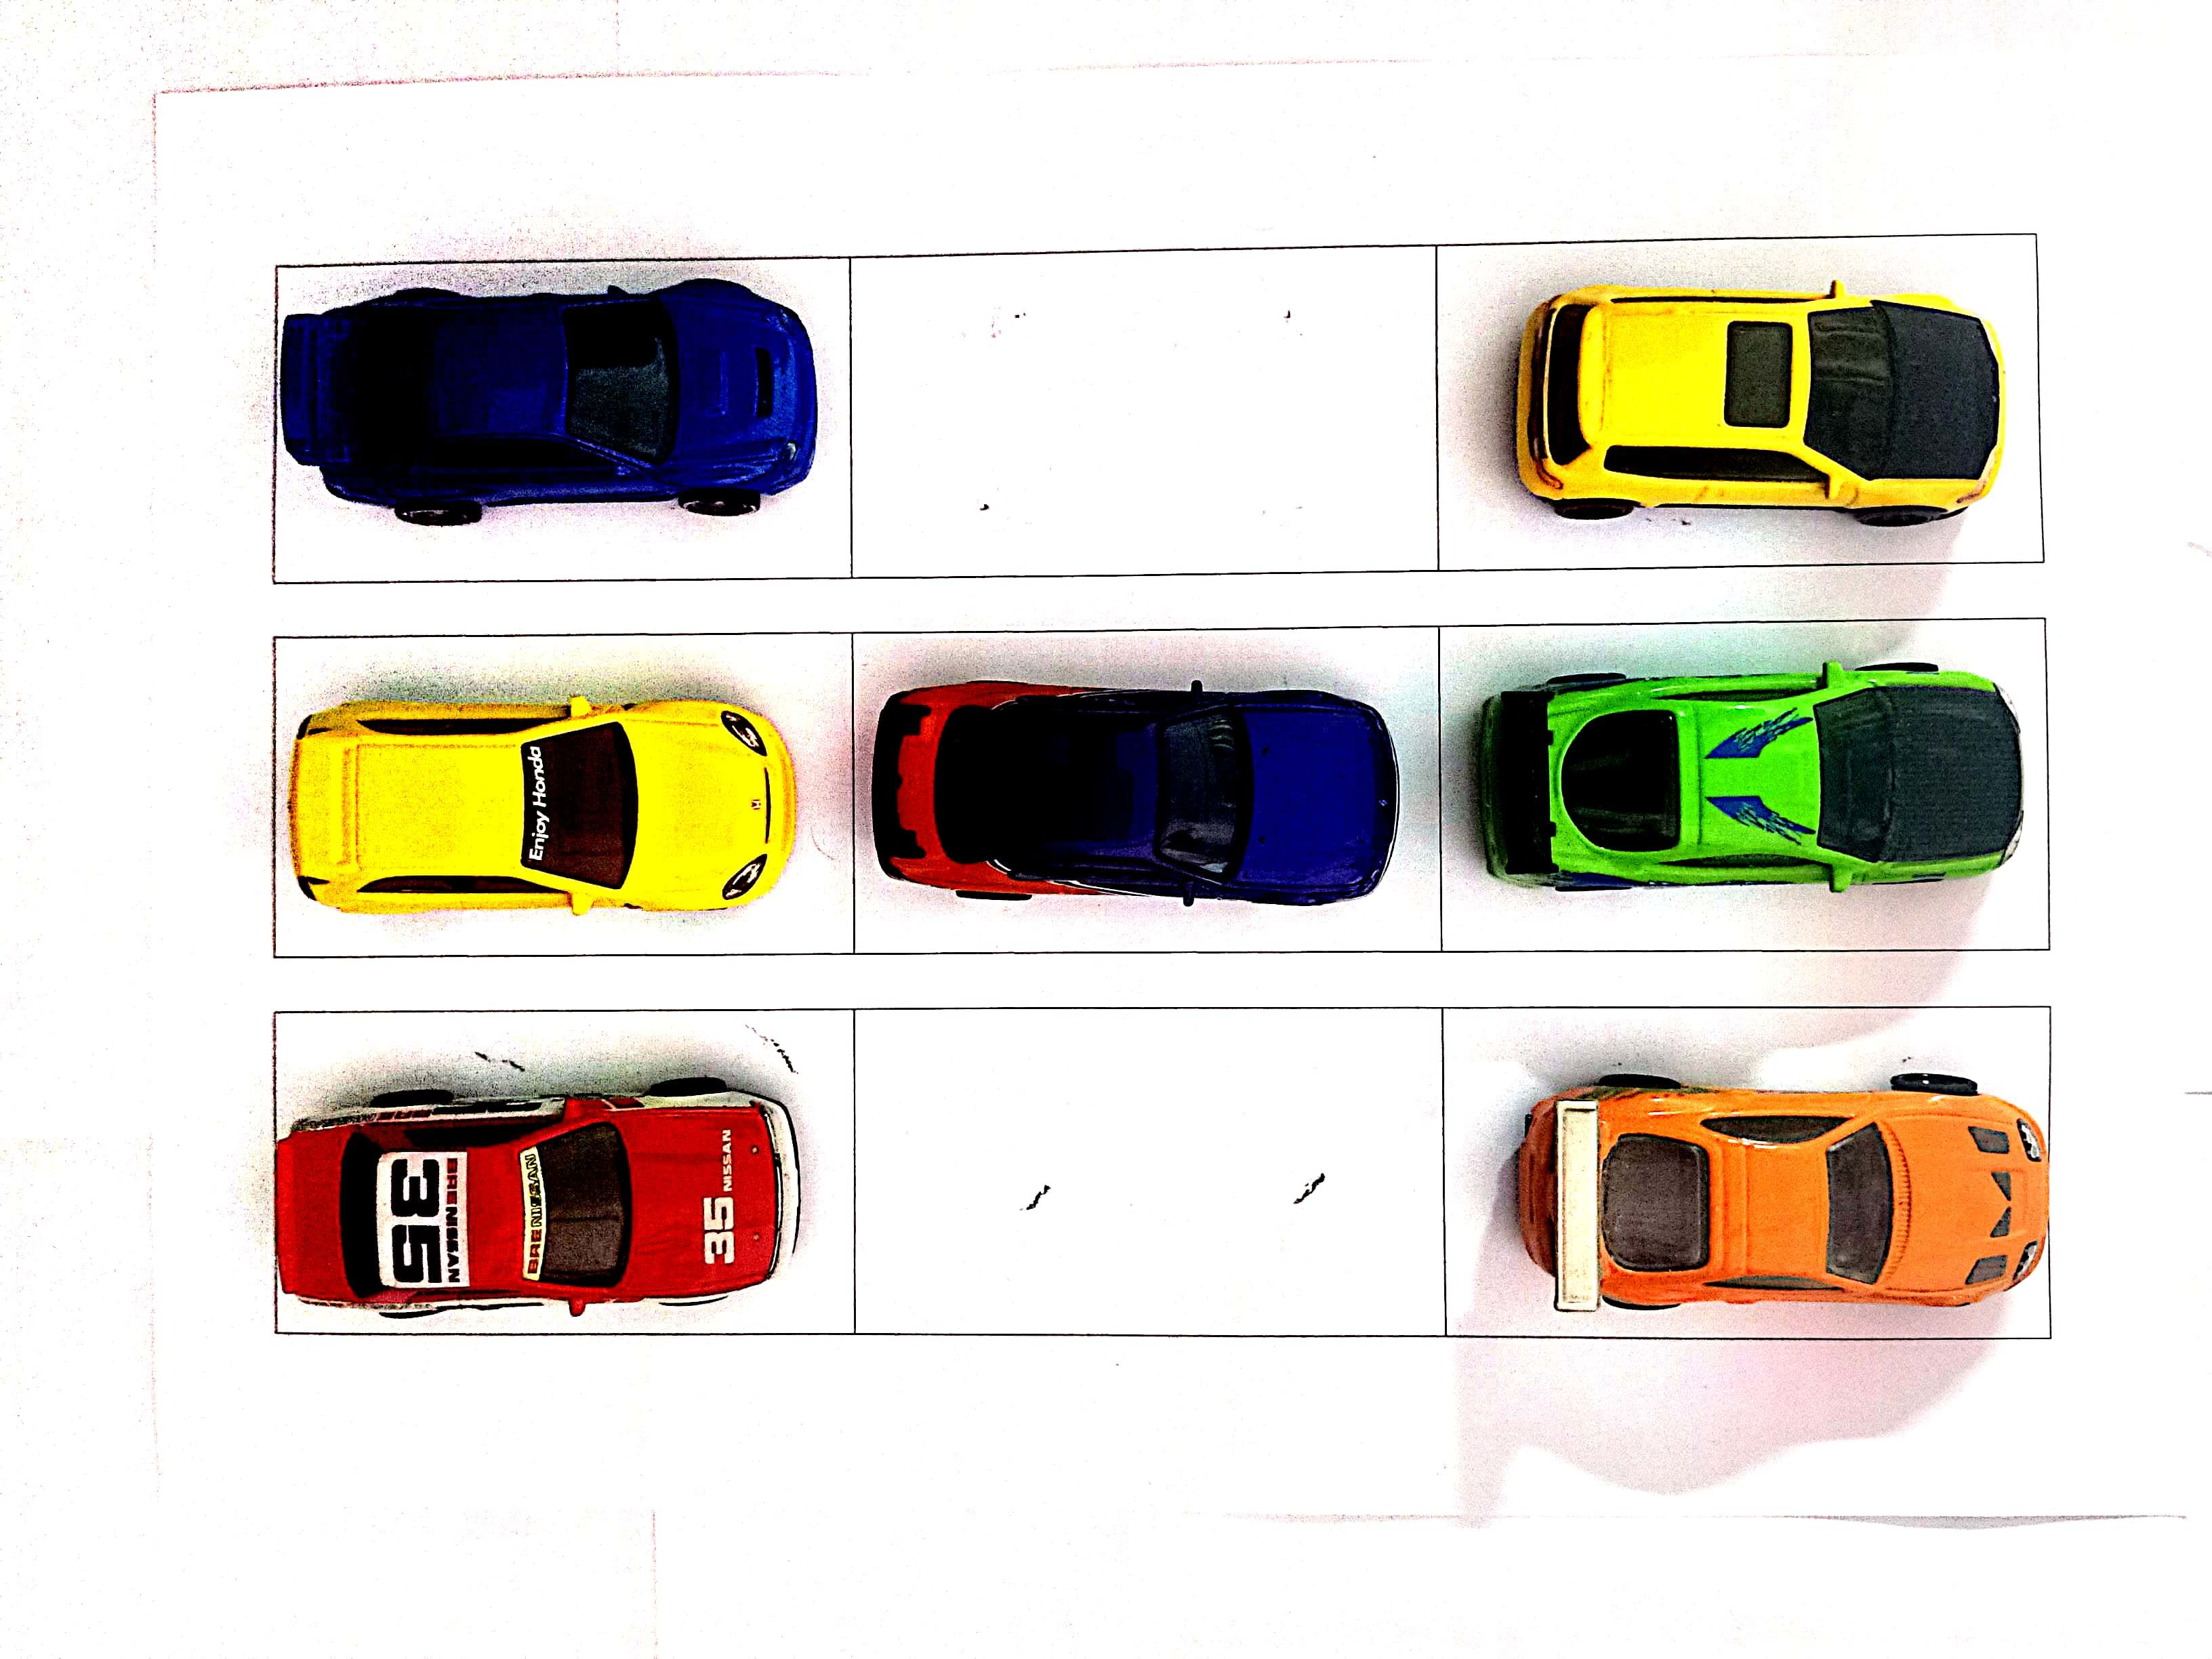Busy: (1440, 624, 2045, 962), (251, 1006, 853, 1331), (1458, 1000, 2045, 1333), (273, 253, 843, 593), (1433, 246, 2024, 568), (857, 633, 1433, 955), (270, 640, 852, 945)
Free: (852, 1002, 1440, 1331), (860, 249, 1432, 572)
